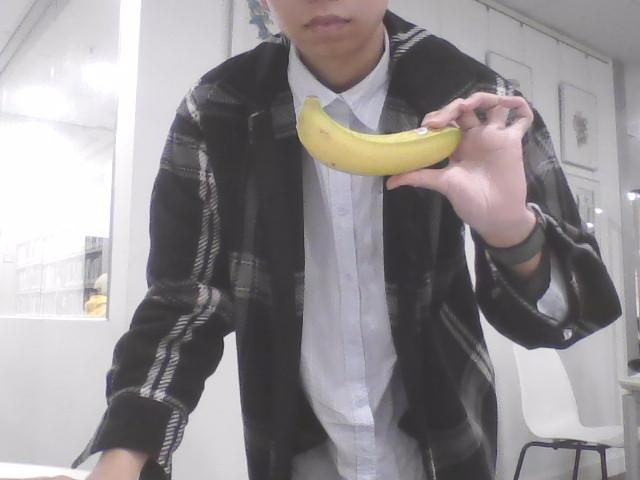banana: (298, 92, 464, 177)
